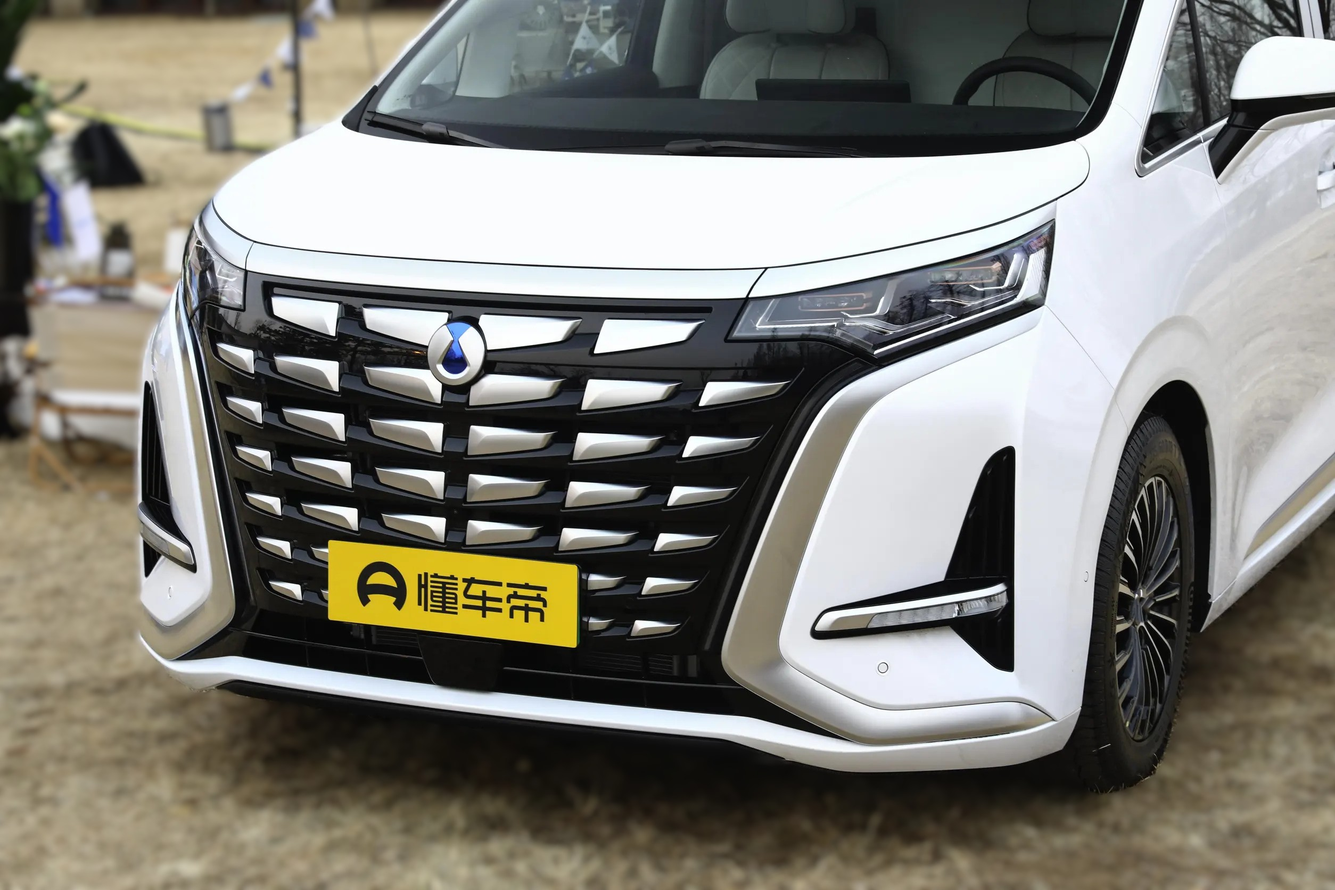DENZA: (428, 323, 484, 385)
